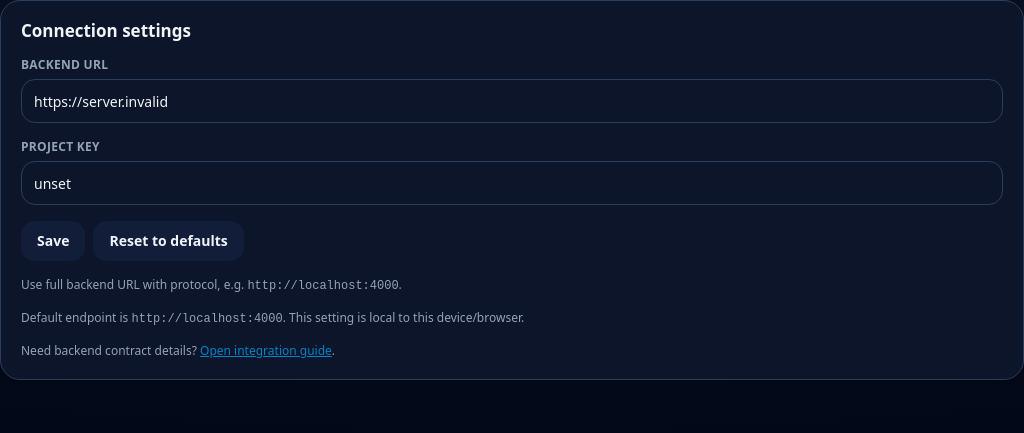
Test: PublicConnectionSettingsPage › rejects invalid backend URLs
The image size is (1024, 433).
Replace the text in the field labelled "Backend URL" with "/api" at (512, 101), box [21,79,1003,123]
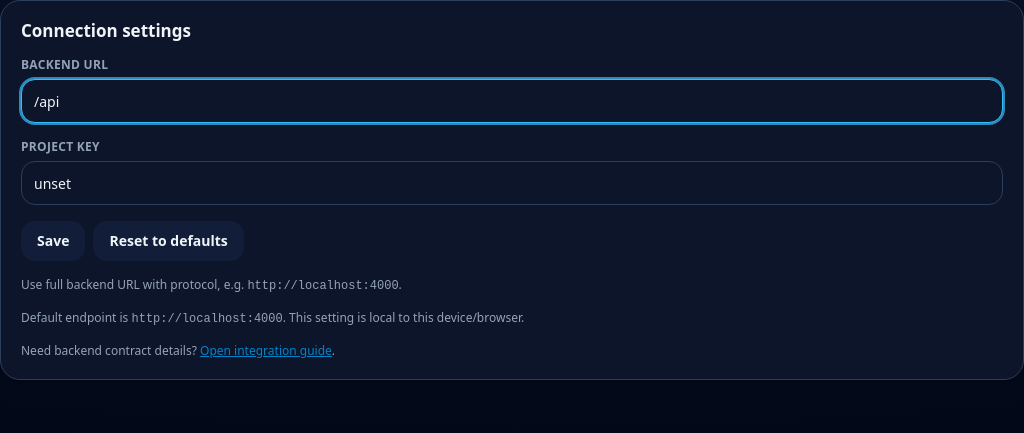
Click the button "Save" at (53, 241), box [21,221,85,261]
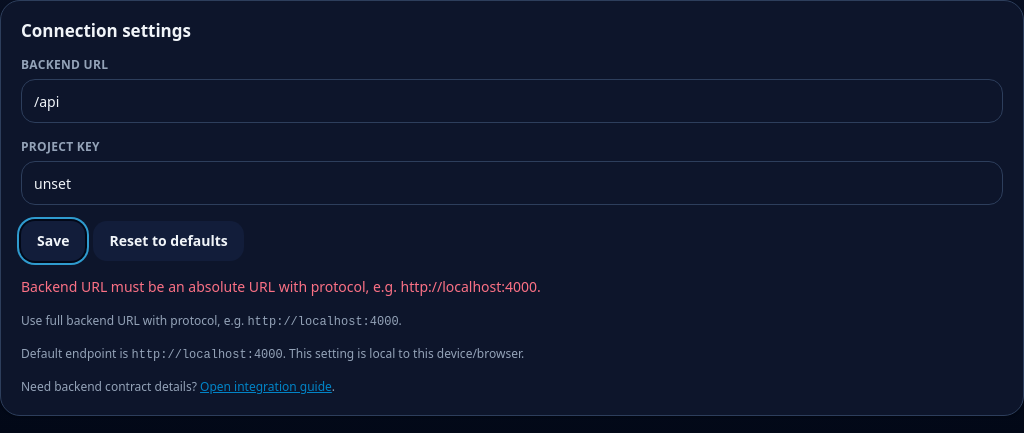
Result: the text "Backend URL must be an absolute URL with protocol, e.g. http://localhost:4000." is shown at [21,277,541,296]
